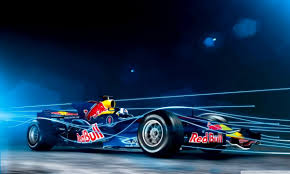FormulaOneCar: (25, 94, 268, 163)
